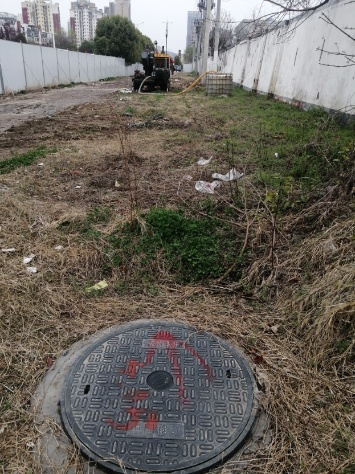good: (57, 317, 269, 474)
